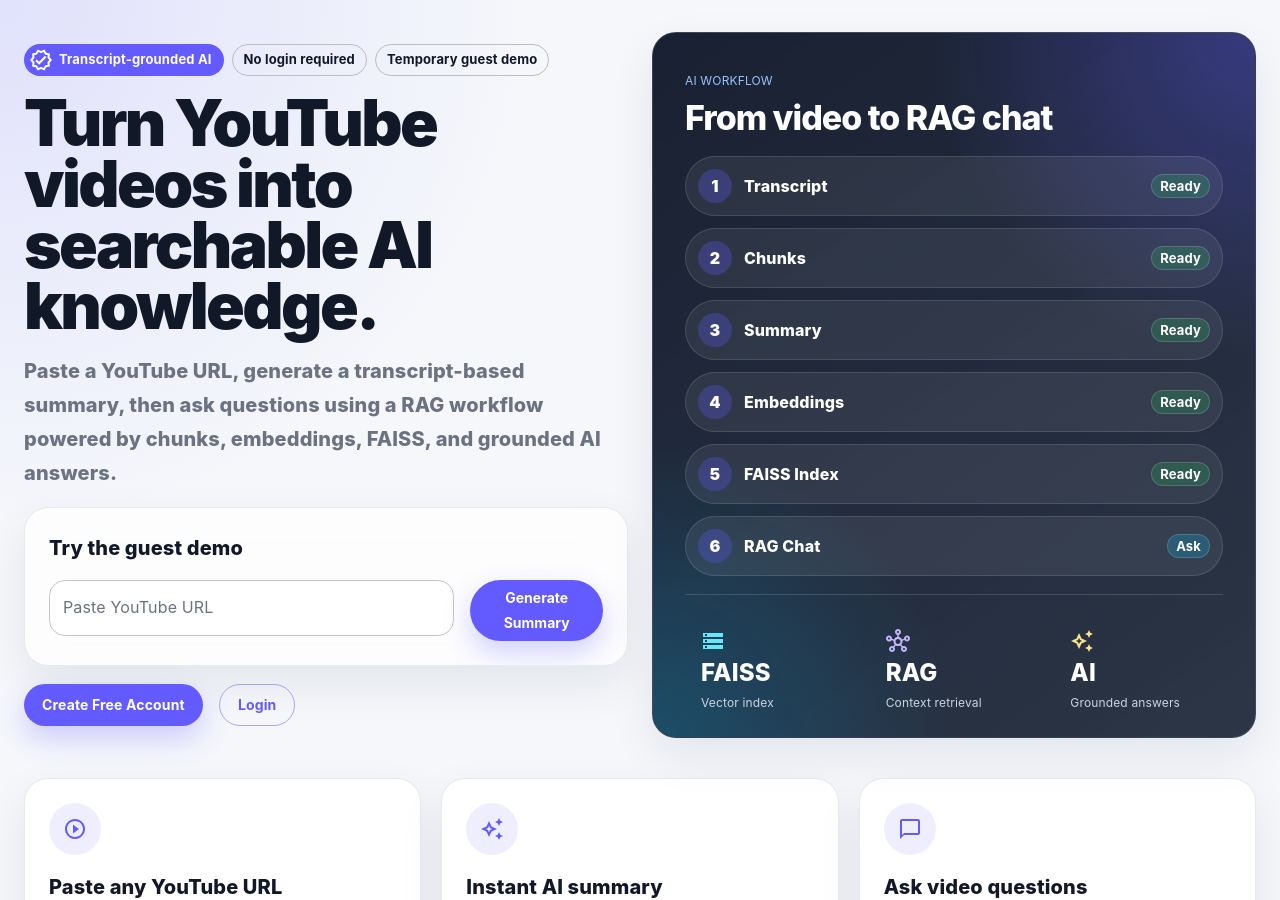
Test: GuestPage › shows API error when summary generation fails
Type "https://www.youtube.com/watch?v=badvideo" into the field labelled "Paste YouTube URL" at (252, 608), box [49, 580, 454, 636]
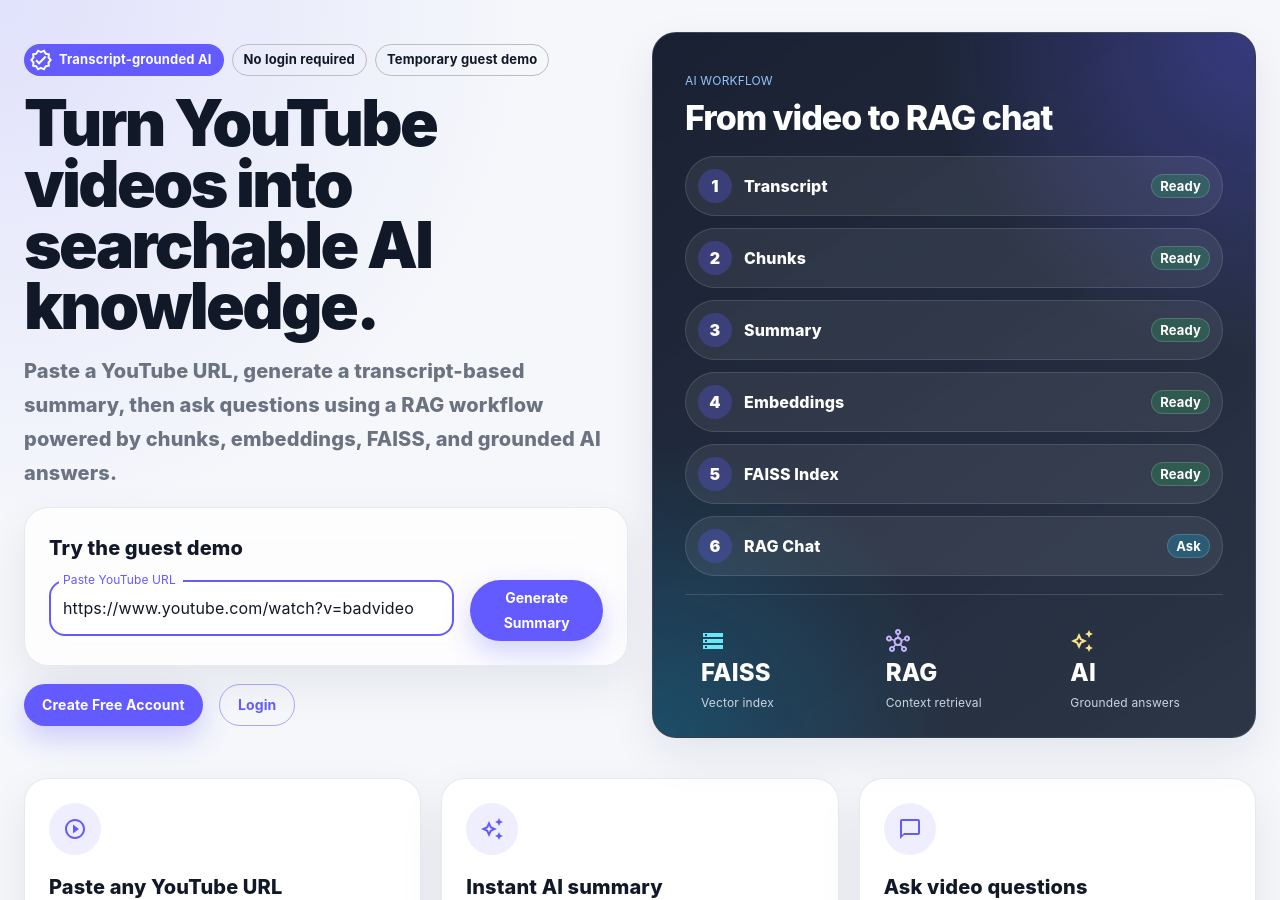
Click the button "Generate Summary" at (537, 611), box [470, 580, 603, 642]
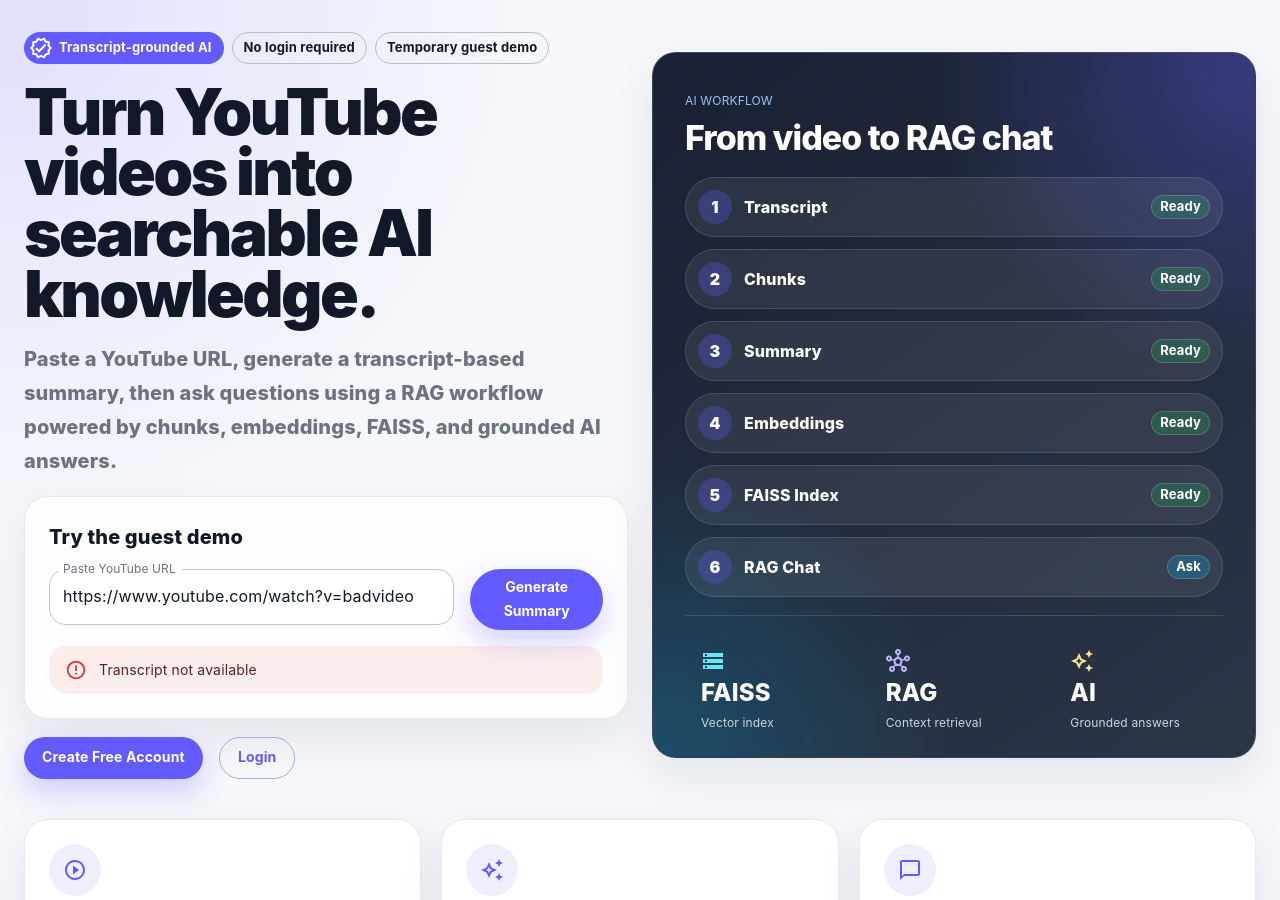
Now the text "Transcript not available" is shown, box [99, 661, 257, 678]
